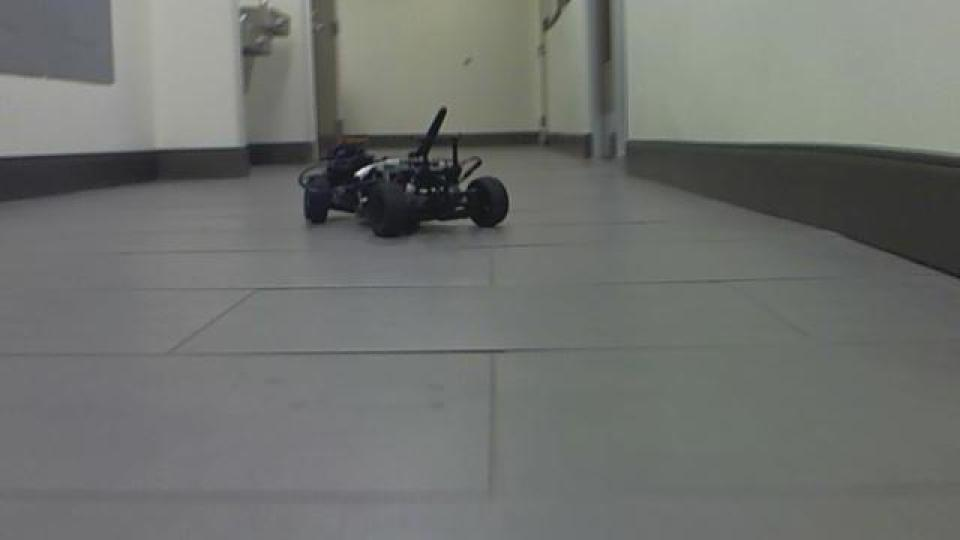car: (294, 104, 512, 240)
